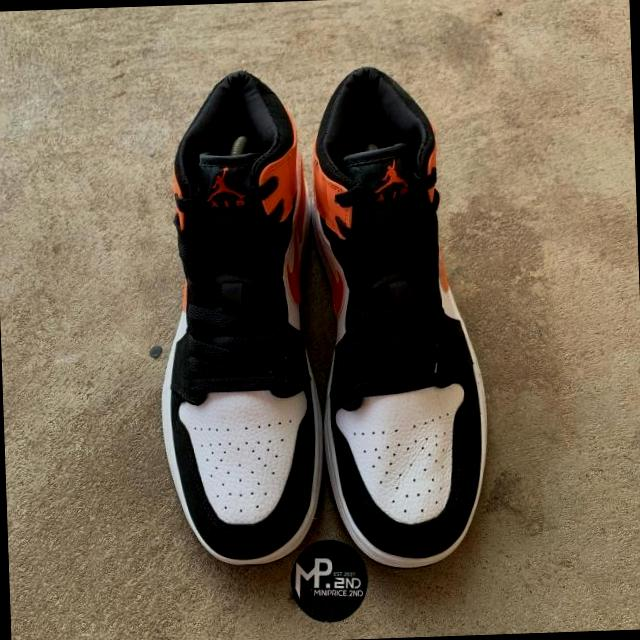nike_fake_jordan: (305, 61, 496, 577), (148, 68, 332, 578)
